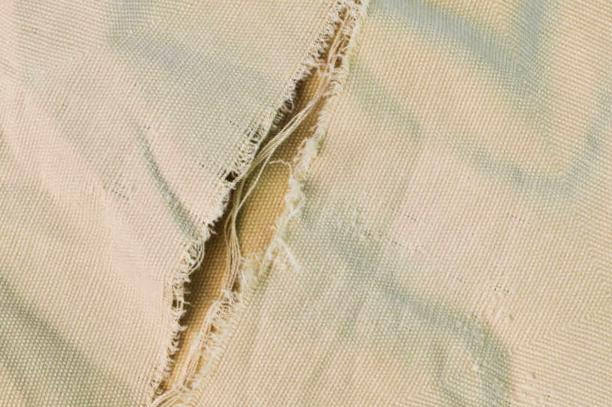hole: (208, 2, 299, 402)
